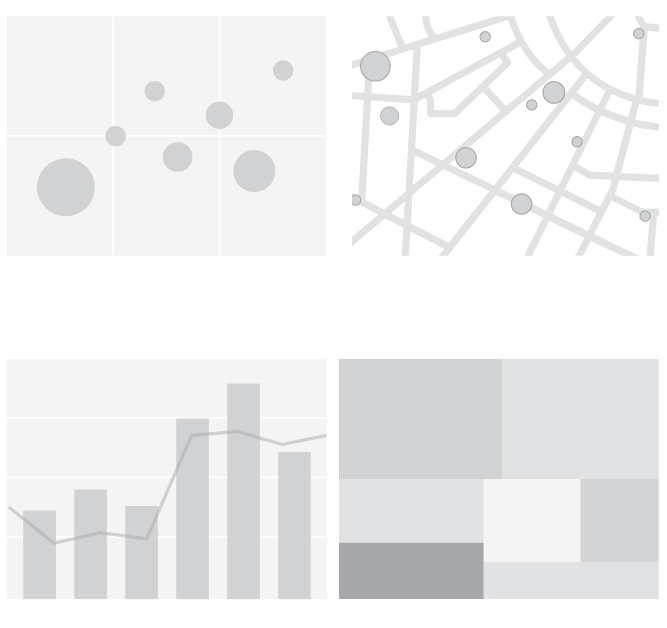

The dashboard page shown, as its layout file describes it:
{"tool":"tableau","page":{"name":"Dashboard 1","canvas":[600,350],"ordinal":0},"visuals":[{"type":"worksheet","title":"Sheet 1","mark":"Bar","rows":["Gender"],"cols":["Number"],"box":[0,0,440,147]},{"type":"legend","title":"Sheet 1","param":"[federated.0nu8bq403tzb9z1fh35ge1srv0x0].[none:Gender:nk]","box":[440,0,160,70]},{"type":"legend","title":"Sheet 2","param":"[federated.0nu8bq403tzb9z1fh35ge1srv0x0].[Goal of Evening (group)]","box":[440,70,160,66]},{"type":"worksheet","title":"Sheet 2","mark":"Automatic","rows":["Goal of Evening "],"cols":["Number 2"],"box":[0,147,440,203]}]}

Visuals, with their boxes on the page's 600x350 design canvas (x1, y1, x2, y2). These are canvas units, not pixel positions in the 667x628 screenshot, which may show the page scaled, cropped or inside an application window:
"Sheet 1" worksheet (Bar marks): box=[0, 0, 440, 147]
"Sheet 1" legend: box=[440, 0, 600, 70]
"Sheet 2" legend: box=[440, 70, 600, 136]
"Sheet 2" worksheet: box=[0, 147, 440, 350]
